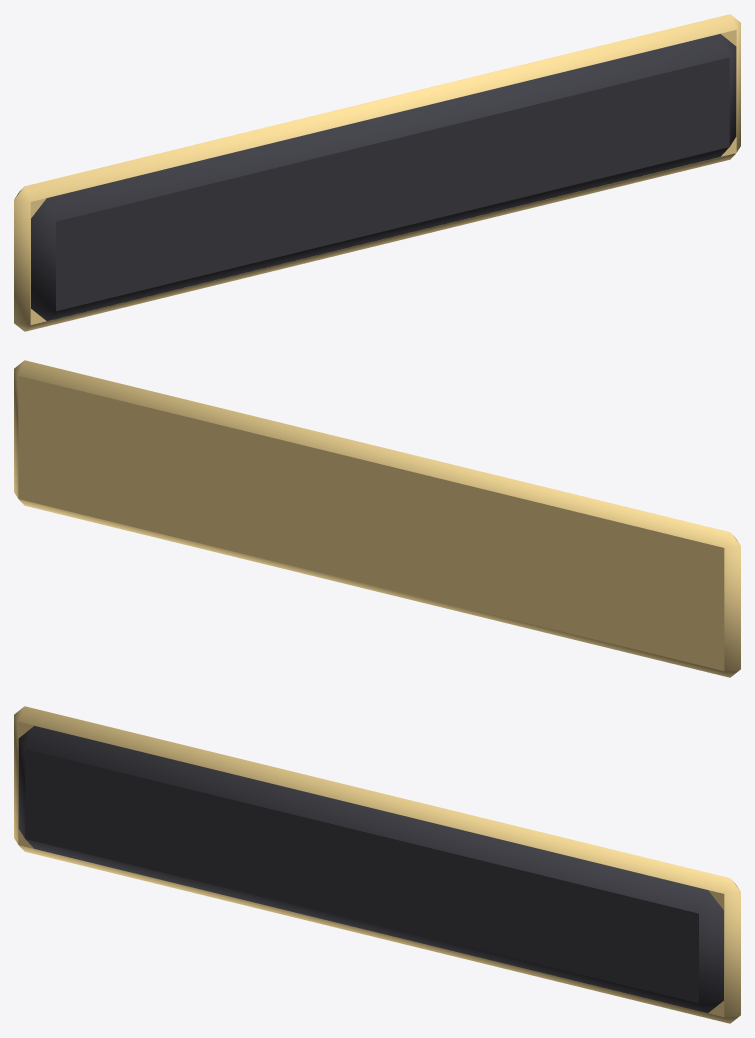
Rendered from kr_bar_bg.glb.
The picture shows the model from 3 angles, top to bottom: view 1: azimuth 30°, elevation 25°; view 2: azimuth 150°, elevation 25°; view 3: azimuth 330°, elevation 25°; orthographic projection.
Visible parts, largest first — view 1: vc_m0_r4, vc_m8_r2; view 2: vc_m8_r2; view 3: vc_m0_r4, vc_m8_r2.
Boxes of the visible parts, x1,y1,x2,y2 form: vc_m0_r4: (31, 34, 736, 320); vc_m8_r2: (14, 14, 740, 331); vc_m8_r2: (14, 360, 740, 677); vc_m0_r4: (18, 726, 723, 1012); vc_m8_r2: (14, 706, 740, 1023).
Size of the model in its own units: 0.68 by 0.13 by 0.035.
